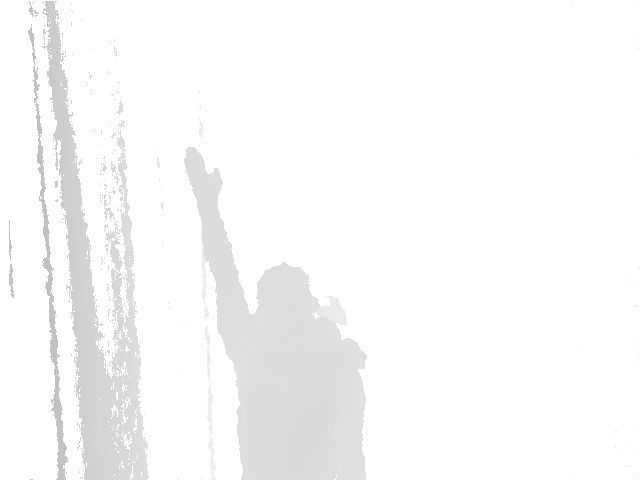hand: (181, 147, 227, 204)
head: (255, 264, 314, 319)
person: (179, 142, 369, 480)
